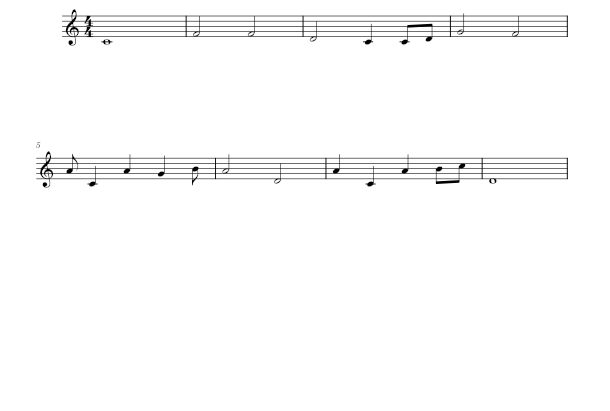Treble Clef: (59, 2, 81, 48), (36, 151, 62, 189)
